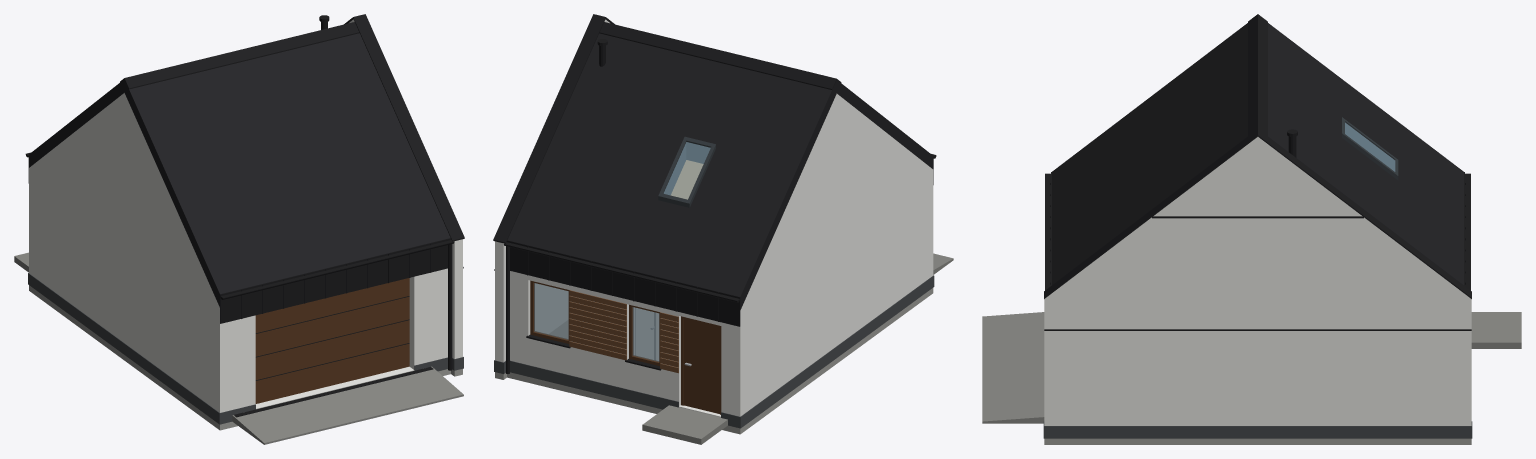
The model's file is garaz_braz.obj.
The picture shows the model from 3 angles, left to right: view 1: azimuth 30°, elevation 25°; view 2: azimuth 150°, elevation 25°; view 3: azimuth 270°, elevation 25°; orthographic projection. The views are drawn at different scales.
Parts seen in each view (by area): view 1: Dach_–_połać_frontowa, Ściana_szczytowa_lewa_(od_strony_domu), BG_<BG_brama_garażowa_segmentowa_400x225>, Ściana_frontowa, Podjazd_przed_bramą_(spadek_8%), Pas_blachy_frontowy, Opierzenie_ściany_szczytowej, Cokół_–_tynk_mozaikowy, Gąsior, Płyta_fundamentowa, Dach_–_połać_ogrodowa, Ściana_szczytowa_prawa (+5 smaller); view 2: Dach_–_połać_ogrodowa, Ściana_szczytowa_lewa_(od_strony_domu), Ściana_ogrodowa, Pas_blachy_ogrodowy, Cokół_–_tynk_mozaikowy, Deska_elewacyjna_–_ogród, D1_<D1_drzwi_zewnętrzne_90x210>, Opierzenie_ściany_szczytowej, Gąsior, Ściana_szczytowa_prawa, OP_<OP_okno_dachowe_78x148>, Płyta_fundamentowa (+10 smaller); view 3: Ściana_szczytowa_prawa, Dach_–_połać_frontowa, Dach_–_połać_ogrodowa, Podjazd_przed_bramą_(spadek_8%), Cokół_–_tynk_mozaikowy, Opierzenie_ściany_szczytowej, Płyta_fundamentowa, Gąsior, Podest_przy_drzwiach_D1, OP_<OP_okno_dachowe_78x148>, Płyta_pod_ścianą_szczytową, Pas_blachy_na_szczycie_–_dolny (+3 smaller).
Boxes of the visible parts, x1,y1,x2,y2 form: Dach_–_połać_frontowa: [124, 33, 450, 307]; Ściana_szczytowa_lewa_(od_strony_domu): [33, 93, 215, 408]; BG_<BG_brama_garażowa_segmentowa_400x225>: [255, 278, 409, 403]; Ściana_frontowa: [215, 268, 447, 412]; Podjazd_przed_bramą_(spadek_8%): [232, 366, 463, 444]; Pas_blachy_frontowy: [220, 238, 451, 323]; Opierzenie_ściany_szczytowej: [344, 14, 464, 241]; Cokół_–_tynk_mozaikowy: [28, 273, 463, 424]; Gąsior: [120, 22, 359, 89]; Płyta_fundamentowa: [29, 285, 450, 430]; Dach_–_połać_ogrodowa: [29, 79, 124, 167]; Ściana_szczytowa_prawa: [349, 19, 462, 358]; Dach_–_połać_ogrodowa: [507, 33, 836, 309]; Ściana_szczytowa_lewa_(od_strony_domu): [745, 93, 928, 412]; Ściana_ogrodowa: [510, 271, 745, 417]; Pas_blachy_ogrodowy: [507, 240, 740, 326]; Cokół_–_tynk_mozaikowy: [494, 275, 934, 428]; Deska_elewacyjna_–_ogród: [569, 290, 678, 373]; D1_<D1_drzwi_zewnętrzne_90x210>: [681, 316, 721, 414]; Opierzenie_ściany_szczytowej: [493, 14, 614, 243]; Gąsior: [599, 22, 841, 89]; Ściana_szczytowa_prawa: [495, 19, 609, 362]; OP_<OP_okno_dachowe_78x148>: [658, 136, 715, 207]; Płyta_fundamentowa: [507, 288, 933, 434]; Ściana_szczytowa_prawa: [1044, 137, 1471, 425]; Dach_–_połać_frontowa: [1052, 23, 1247, 284]; Dach_–_połać_ogrodowa: [1268, 23, 1463, 284]; Podjazd_przed_bramą_(spadek_8%): [982, 312, 1044, 423]; Cokół_–_tynk_mozaikowy: [1043, 421, 1472, 438]; Opierzenie_ściany_szczytowej: [1044, 129, 1471, 298]; Płyta_fundamentowa: [1052, 438, 1463, 444]; Gąsior: [1248, 14, 1267, 135]; Podest_przy_drzwiach_D1: [1471, 312, 1521, 348]; OP_<OP_okno_dachowe_78x148>: [1342, 117, 1398, 180]; Płyta_pod_ścianą_szczytową: [1044, 438, 1471, 444]; Pas_blachy_na_szczycie_–_dolny: [1044, 329, 1471, 330].
Size of what is drawn, in the model's own units: 6.05 by 6.89 by 10.85.
